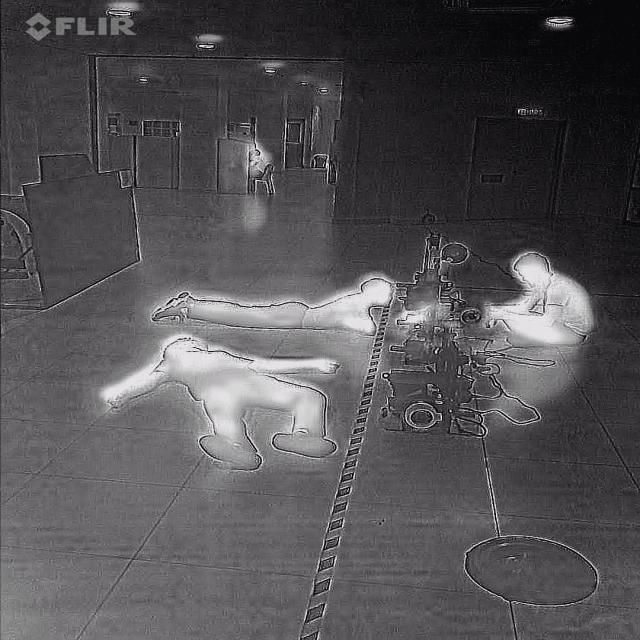Victim: (100, 336, 340, 468), (148, 274, 402, 332), (479, 251, 599, 350)
